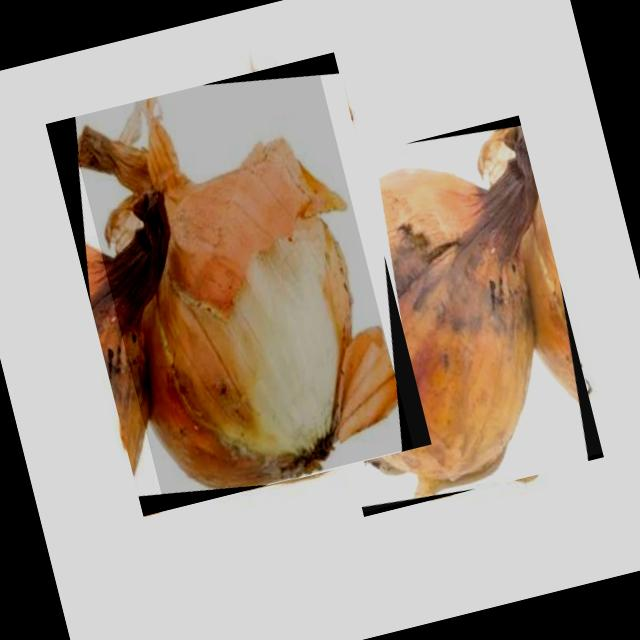rotten: (77, 97, 397, 489), (317, 125, 538, 498), (411, 322, 458, 389)
